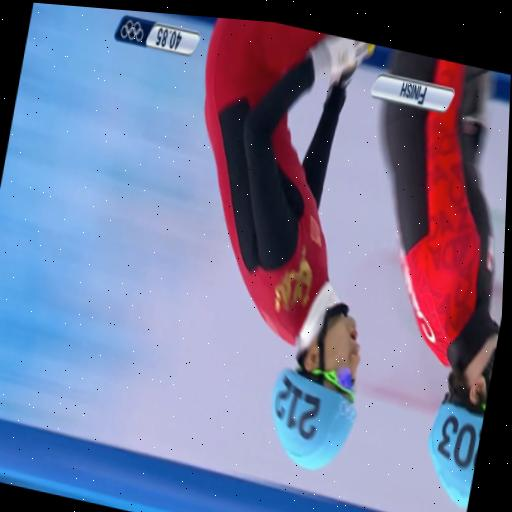Skater: (204, 18, 373, 468), (382, 49, 498, 506)
